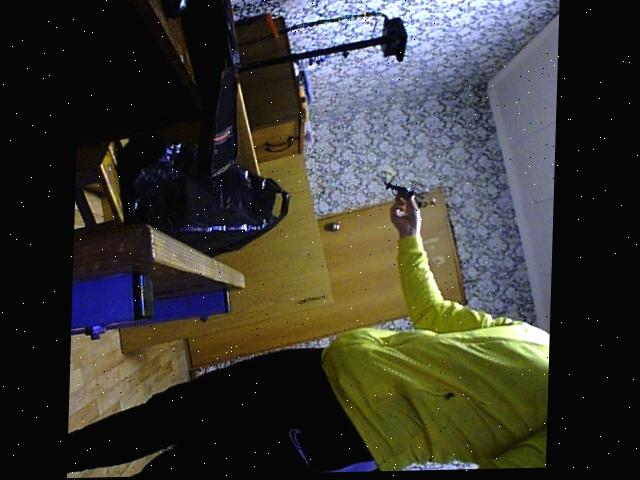drone: (373, 166, 434, 221)
